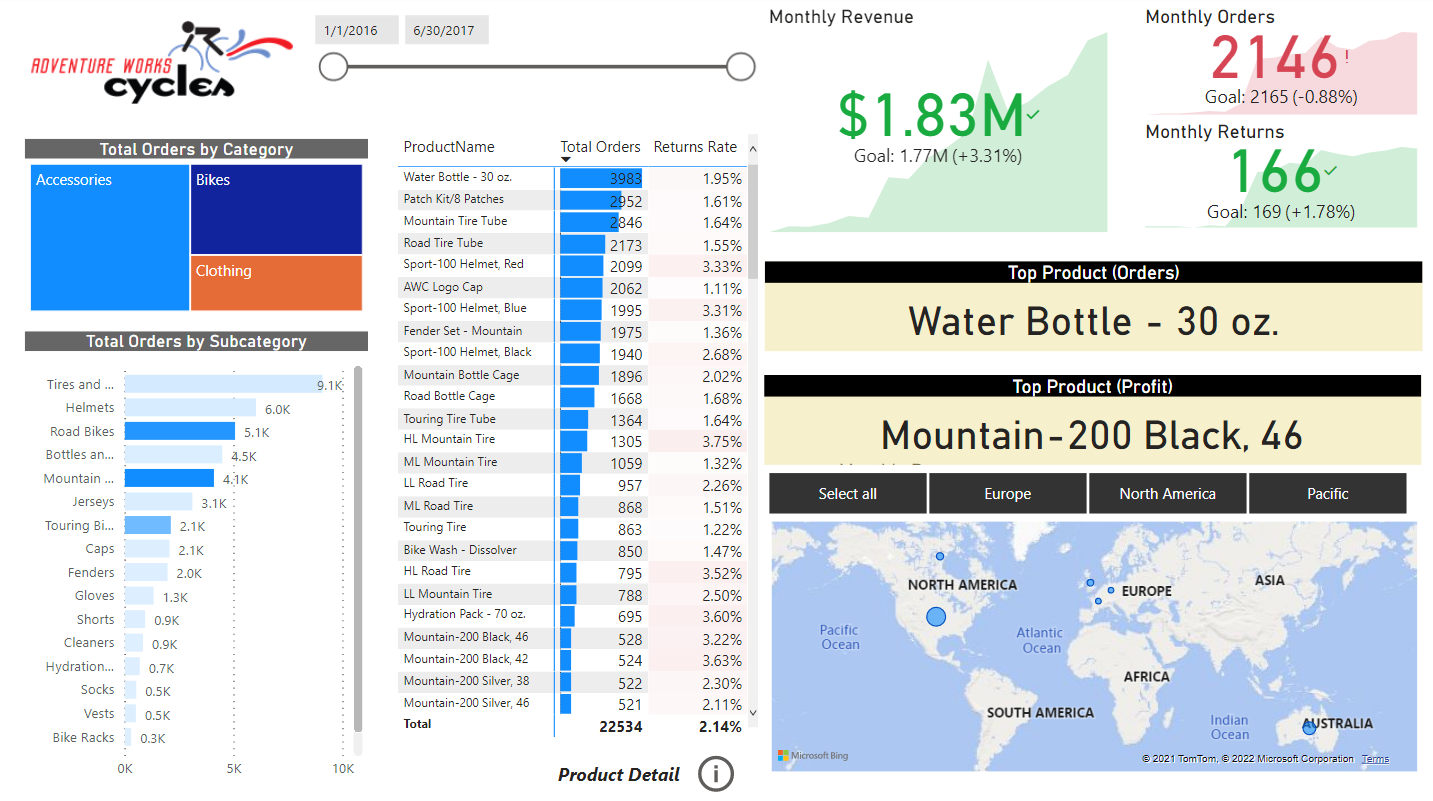

What the dashboard file says about the page in this screenshot:
{"tool":"powerbi","page":{"name":"Exec Summary","canvas":[1280,720],"ordinal":0},"visuals":[{"type":"image","box":[26.5,16.9,244.8,85.6],"z":0},{"type":"barChart","title":"Total Orders by Subcategory","fields":{"Y":["AW_Sales.Total Orders"],"Category":["AW_Product_Subcategory_Lookup.SubcategoryName"]},"box":[26,299.6,305.8,408.5],"z":1000},{"type":"treemap","title":"Total Orders by Category","fields":{"Group":["AW_Product_Category_Lookup.CategoryName","AW_Product_Subcategory_Lookup.SubcategoryName"],"Values":["AW_Sales.Total Orders"]},"box":[26,127.5,305.8,158.5],"z":2000},{"type":"slicer","fields":{"Values":["AW_Calendar_Lookup.Date"]},"box":[271.1,7.4,412.2,95.3],"z":3000},{"type":"kpi","title":"Monthly Revenue","fields":{"Indicator":["AW_Sales.Total Revenue"],"TrendLine":["AW_Calendar_Lookup.Start of Month"],"Goal":["AW_Sales.Prev Month Revenue"]},"box":[745.8,413.4,333.7,204.6],"z":4000},{"type":"kpi","title":"Monthly Orders","fields":{"TrendLine":["AW_Calendar_Lookup.Start of Month"],"Goal":["AW_Sales.Prev Month Orders"],"Indicator":["AW_Sales.Total Orders"]},"box":[1017.9,8.4,252.1,102.5],"z":5000},{"type":"kpi","title":"Monthly Returns","fields":{"TrendLine":["AW_Calendar_Lookup.Start of Month"],"Indicator":["AW_Returns.Total Returns"],"Goal":["AW_Returns.Prev Month Returns"]},"box":[1017.9,111,252.1,101.3],"z":6000},{"type":"card","title":"Top Product (Orders)","fields":{"Values":["Min(AW_Product_Lookup.ProductName)"]},"box":[684.3,236.5,585.3,79.8],"z":7000},{"type":"card","title":"Top Product (Profit)","fields":{"Values":["Min(AW_Product_Lookup.ProductName)"]},"box":[682.9,338.5,585.3,79.8],"z":8000},{"type":"map","fields":{"Category":["AW_Territories_Lookup.Country"],"Size":["AW_Sales.Total Orders"]},"box":[685,455.9,584.9,240],"z":9000},{"type":"slicer","fields":{"Values":["AW_Territories_Lookup.Continent"]},"box":[662.2,418.3,617.8,50.3],"z":10000},{"type":"pivotTable","fields":{"Rows":["AW_Product_Category_Lookup.CategoryName","AW_Product_Subcategory_Lookup.SubcategoryName","AW_Product_Lookup.ProductName"],"Values":["AW_Sales.Total Orders","AW_Returns.Returns Rate"]},"box":[353,119.5,331,546.6],"z":11000},{"type":"kpi","title":"Monthly Revenue","fields":{"TrendLine":["AW_Calendar_Lookup.Start of Month"],"Goal":["AW_Sales.Prev Month Revenue"],"Indicator":["AW_Sales.Total Revenue"]},"box":[683.8,8.4,311.2,207.4],"z":12000},{"type":"actionButton","box":[619.9,671.8,42.2,42.2],"z":13000},{"type":"textbox","box":[495.7,677.8,129,35],"z":14000}]}

Visuals, with their boxes in screenshot pixels (x1, y1, x2, y2), scaled from the page's 1280x720 canvas onto the 1433x801 screenshot:
image: left=30, top=19, right=304, bottom=114
"Total Orders by Subcategory" barChart: left=29, top=333, right=371, bottom=788
"Total Orders by Category" treemap: left=29, top=142, right=371, bottom=318
slicer - AW_Calendar_Lookup.Date: left=304, top=8, right=765, bottom=114
"Monthly Revenue" kpi: left=835, top=460, right=1209, bottom=688
"Monthly Orders" kpi: left=1140, top=9, right=1422, bottom=123
"Monthly Returns" kpi: left=1140, top=123, right=1422, bottom=236
"Top Product (Orders)" card: left=766, top=263, right=1421, bottom=352
"Top Product (Profit)" card: left=765, top=377, right=1420, bottom=465
map - AW_Territories_Lookup.Country x AW_Sales.Total Orders: left=767, top=507, right=1422, bottom=774
slicer - AW_Territories_Lookup.Continent: left=741, top=465, right=1432, bottom=521
pivotTable - AW_Product_Category_Lookup.CategoryName x AW_Product_Subcategory_Lookup.SubcategoryName: left=395, top=133, right=766, bottom=741
"Monthly Revenue" kpi: left=766, top=9, right=1114, bottom=240
actionButton: left=694, top=747, right=741, bottom=794
textbox: left=555, top=754, right=699, bottom=793
